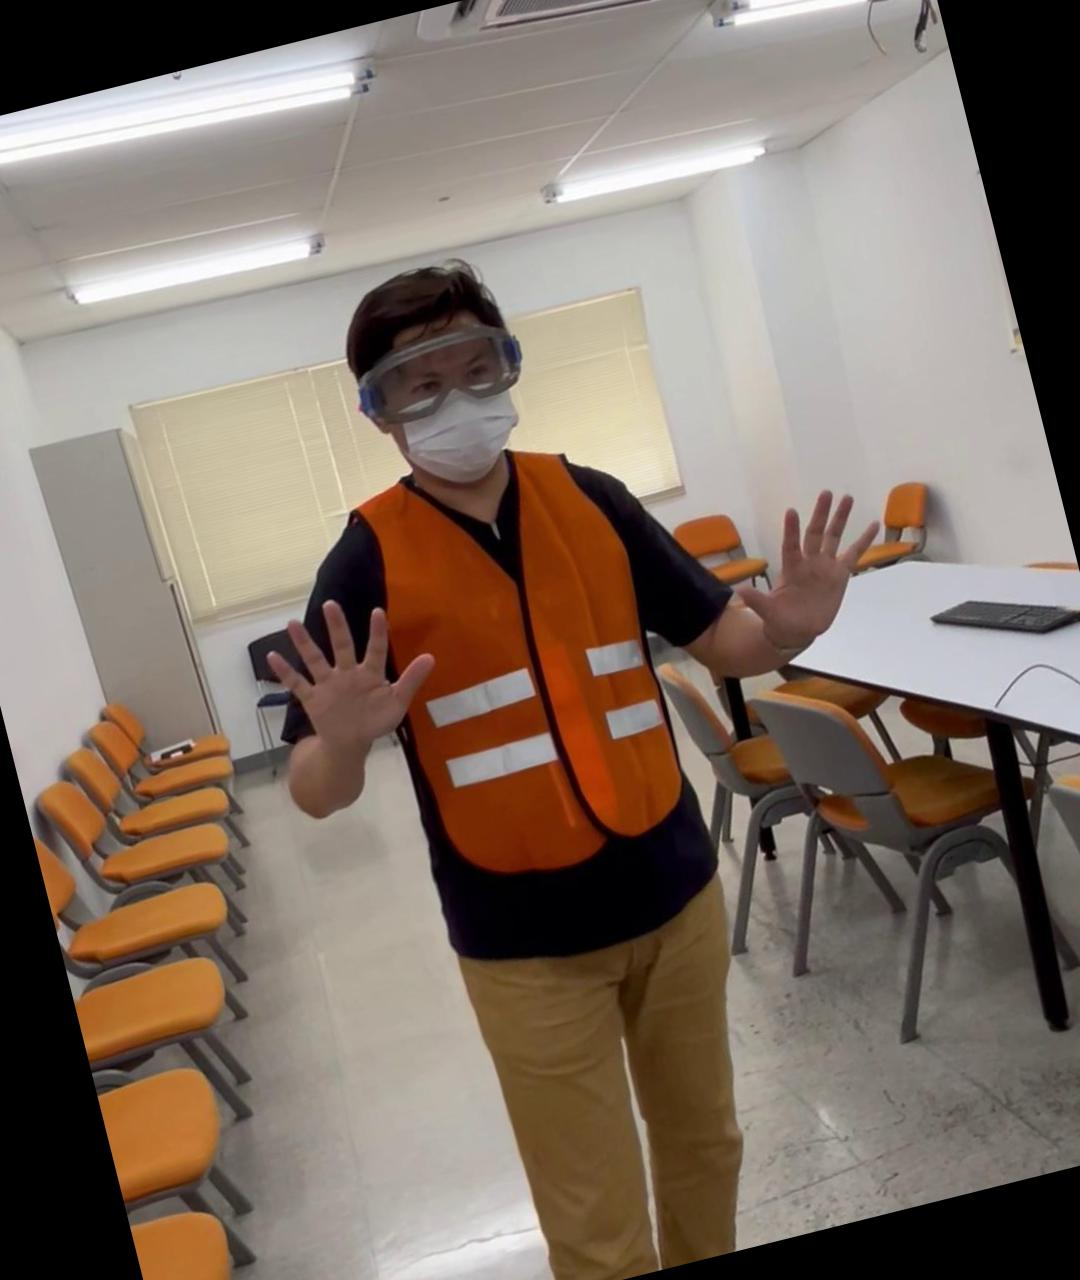No-gloves: (710, 466, 912, 663), (247, 574, 448, 764)
